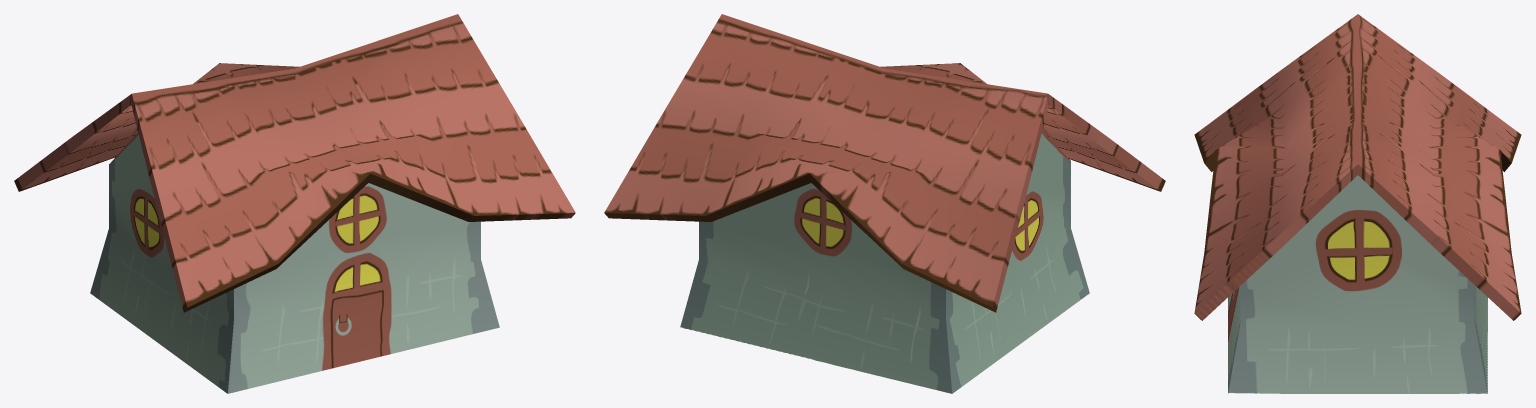
Rendered from casaCastelo01.FBX.
3 renders of one model, left to right at view 1: azimuth 30°, elevation 25°; view 2: azimuth 150°, elevation 25°; view 3: azimuth 270°, elevation 25°, orthographic. The views are drawn at different scales.
Parts seen in each view (by area): view 1: telhadoCentral003, baseCastelo005; view 2: telhadoCentral003, baseCastelo005; view 3: telhadoCentral003, baseCastelo005.
Boxes of the visible parts, x1,y1,x2,y2 form: telhadoCentral003: [14, 14, 575, 312]; baseCastelo005: [90, 132, 499, 393]; telhadoCentral003: [604, 14, 1165, 312]; baseCastelo005: [680, 131, 1089, 393]; telhadoCentral003: [1194, 14, 1521, 320]; baseCastelo005: [1228, 175, 1487, 393].
Size of the model in its own units: 146 by 91.93 by 113.
